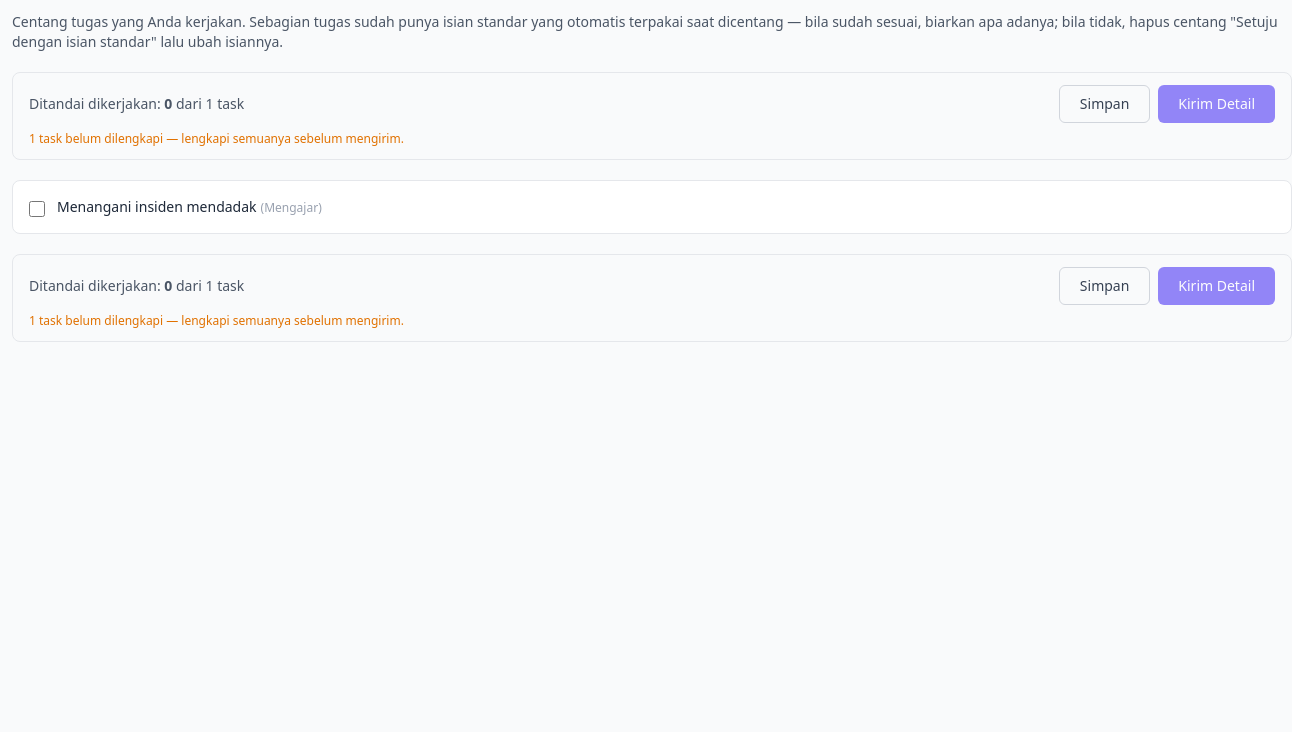
Test: DetailForm — selektor VA Type Tahap 3 hanya 3 opsi final (backlog #39) › task dengan prefill std_va_type='Context-Dependent' tidak diberi default valid (selektor kosong)
// berstandar → checked otomatis via seed rowDariStandar saat dicentang manual.
What coordinates should you click on to do the following:
click the checkbox labelled "Menangani insiden mendadak(Mengajar)"
I would click on:
 (37, 209)
Its box is x1=29 y1=201 x2=45 y2=217.
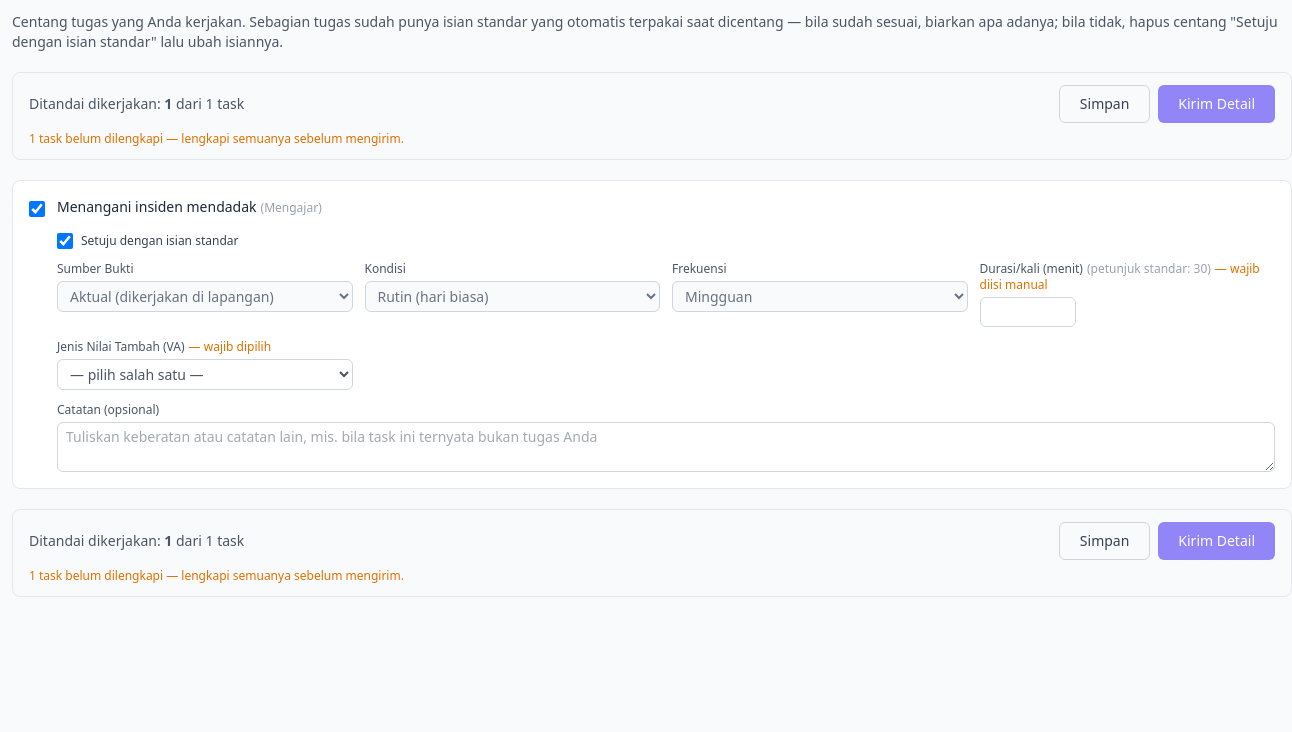
Expected: the dropdown labelled "Jenis Nilai Tambah (VA)— wajib dipilih" shows "— pilih salah satu —", x1=57 y1=359 x2=352 y2=390
Expected: the text "— wajib dipilih" is shown, x1=189 y1=338 x2=271 y2=355
